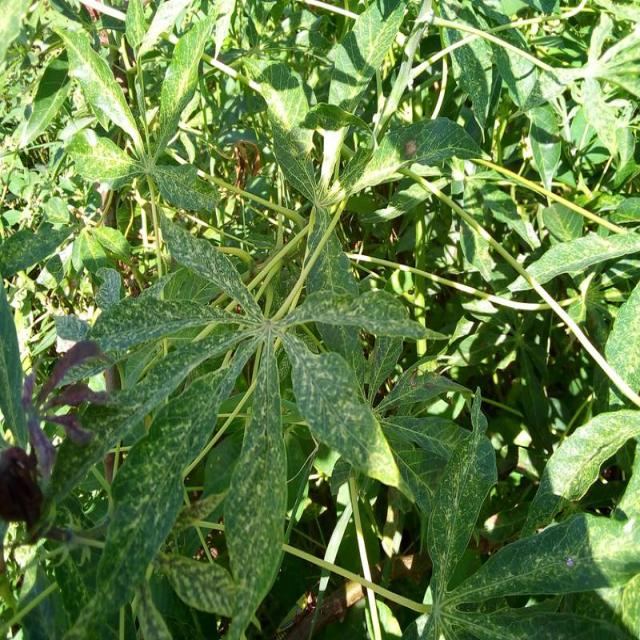cassava leaf: (2, 0, 640, 638), (280, 328, 417, 502)
